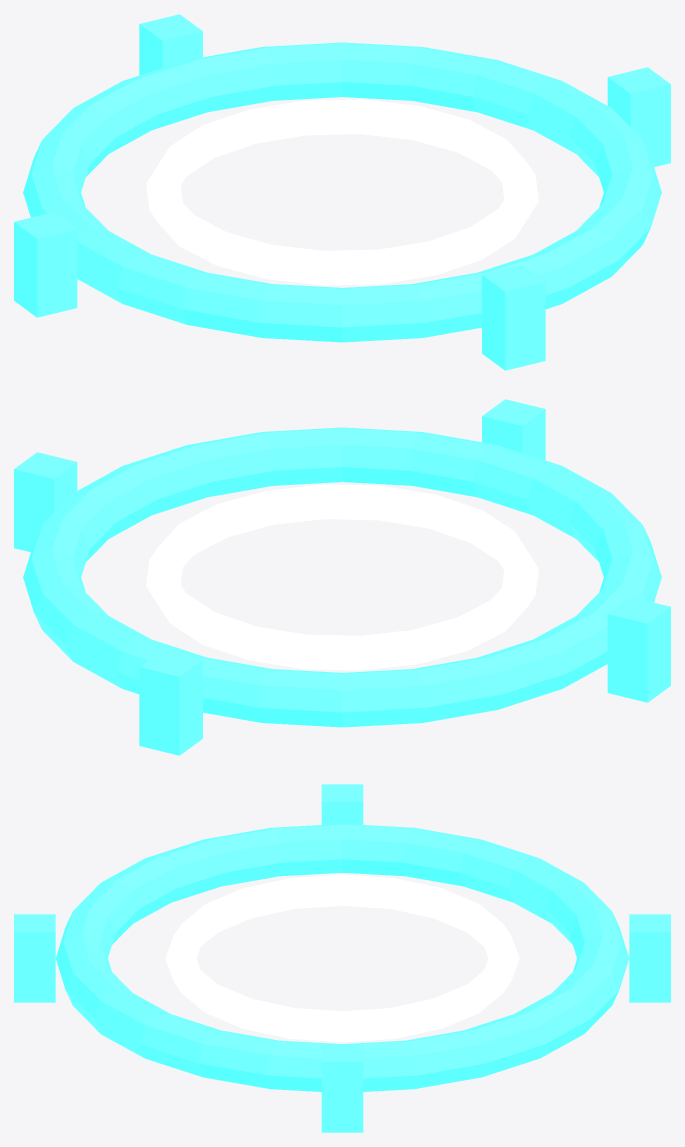
The model's file is transfer_ring.glb.
3 views of the same model, one above another, from view 1: azimuth 30°, elevation 25°; view 2: azimuth 150°, elevation 25°; view 3: azimuth 270°, elevation 25° (orthographic). The views are drawn at different scales.
Parts seen in each view (by area): view 1: MetroTransferRing; view 2: MetroTransferRing; view 3: MetroTransferRing.
Part boxes in pixels (x1=…): MetroTransferRing: x1=14, y1=14, x2=670, y2=370; MetroTransferRing: x1=14, y1=399, x2=670, y2=755; MetroTransferRing: x1=14, y1=784, x2=670, y2=1132.
Size of the model in its own units: 2.52 by 0.3 by 2.52.
